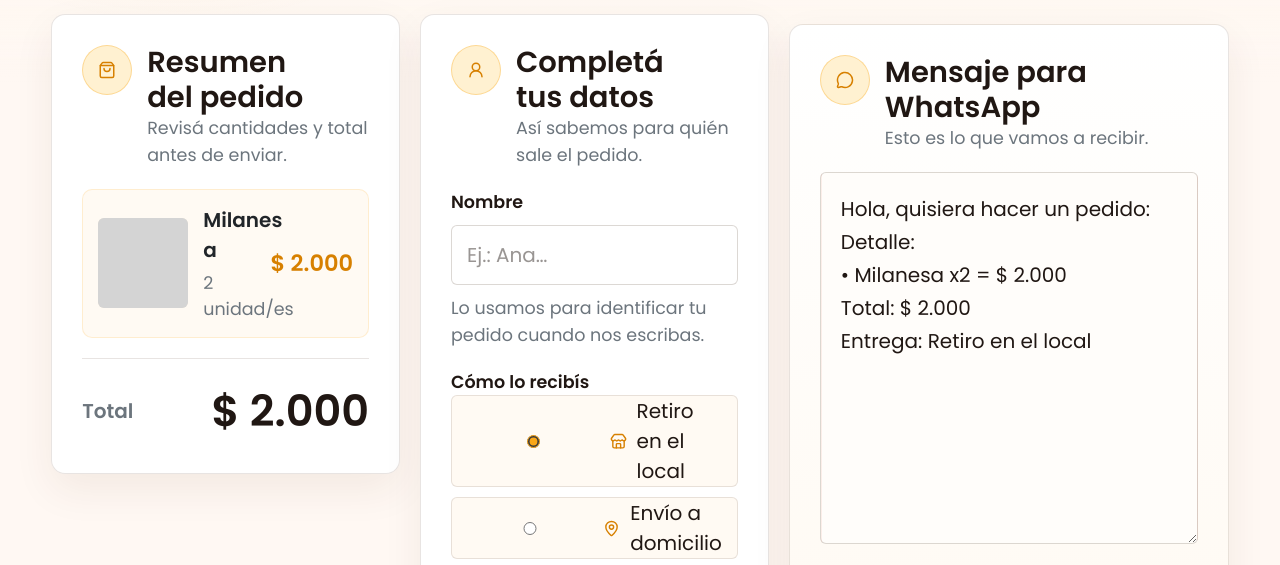
ConfirmPage integration › sends a valid order when cart, business status and commercial config are valid
(page scrolled)
Type "Ana" into the field labelled "Nombre" at (594, 255), box [451,225,738,285]
(page scrolled)
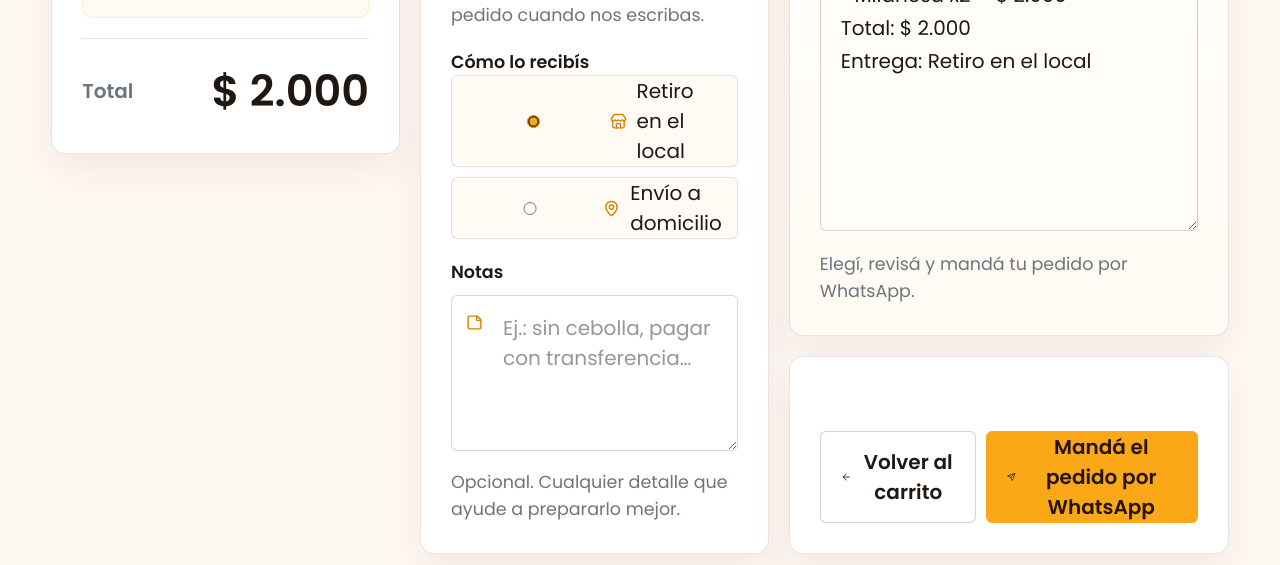
Expected: the button "Mandá el pedido por WhatsApp" is enabled
Click the button "Mandá el pedido por WhatsApp" at (1092, 477), box [986,431,1198,523]
(page scrolled)
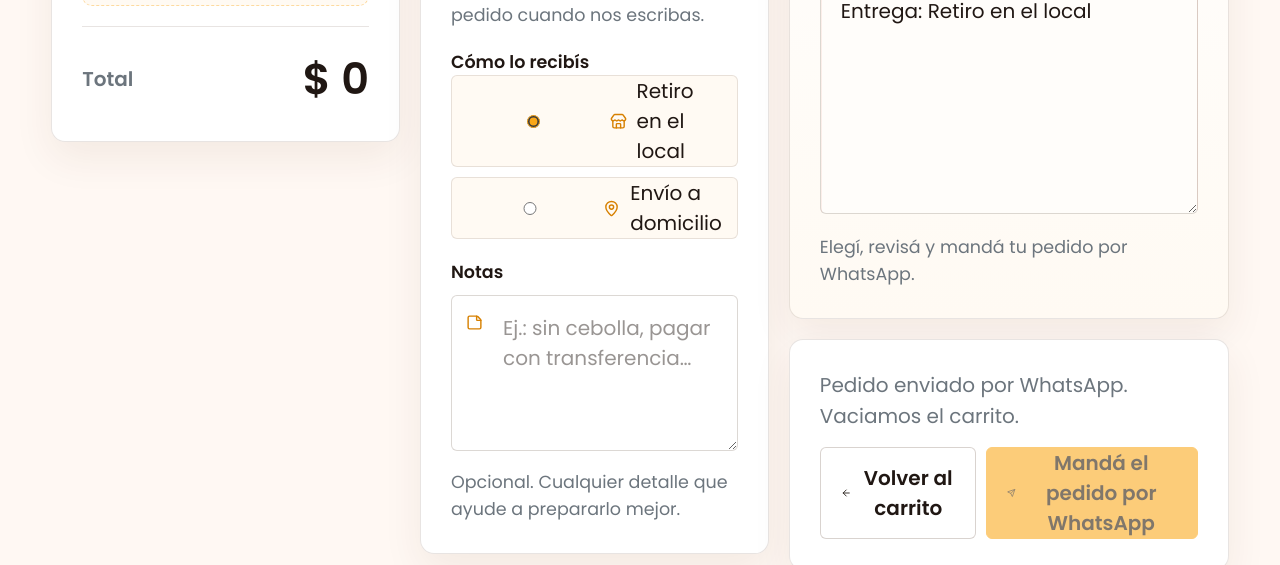
Expected: the text "Pedido enviado por WhatsApp. Vaciamos el carrito." is shown, [820,371,1128,430]
